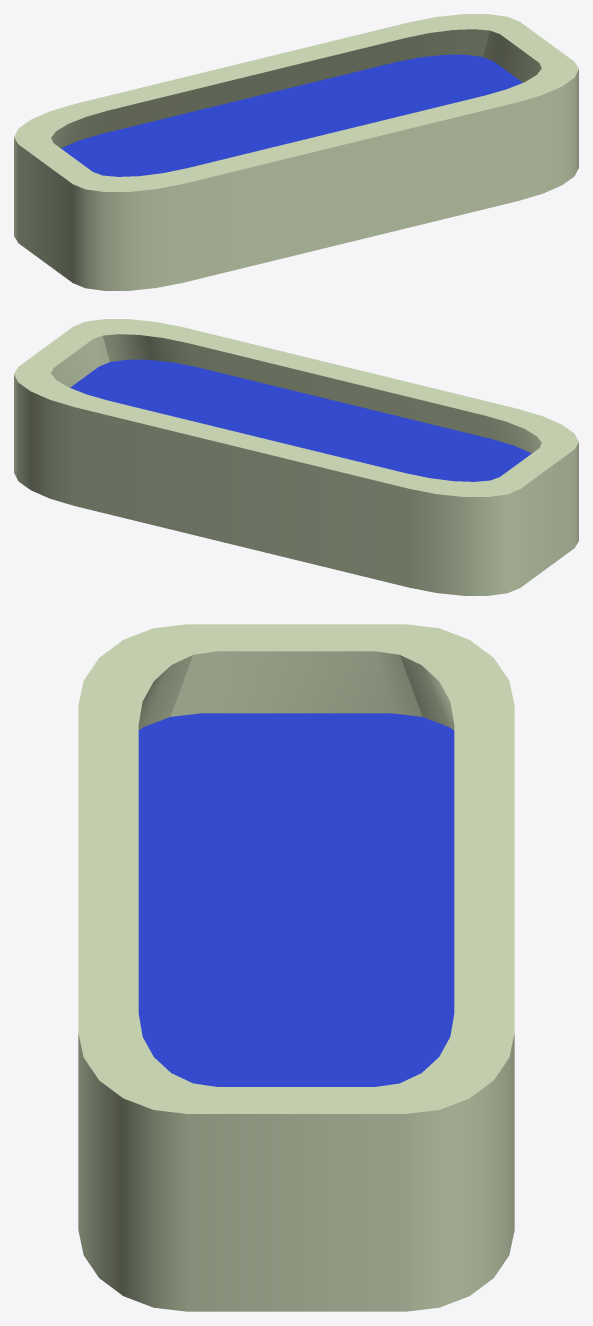
The model's file is Lake.fbx.
The picture shows the model from 3 angles, top to bottom: view 1: azimuth 30°, elevation 25°; view 2: azimuth 150°, elevation 25°; view 3: azimuth 270°, elevation 25°; orthographic projection. The views are drawn at different scales.
Parts seen in each view (by area): view 1: Plane; view 2: Plane; view 3: Plane.
Boxes of the visible parts, x1,y1,x2,y2 form: Plane: [14, 14, 578, 290]; Plane: [14, 319, 578, 595]; Plane: [78, 624, 514, 1311].
Size of the model in its own units: 531 by 100 by 200.
